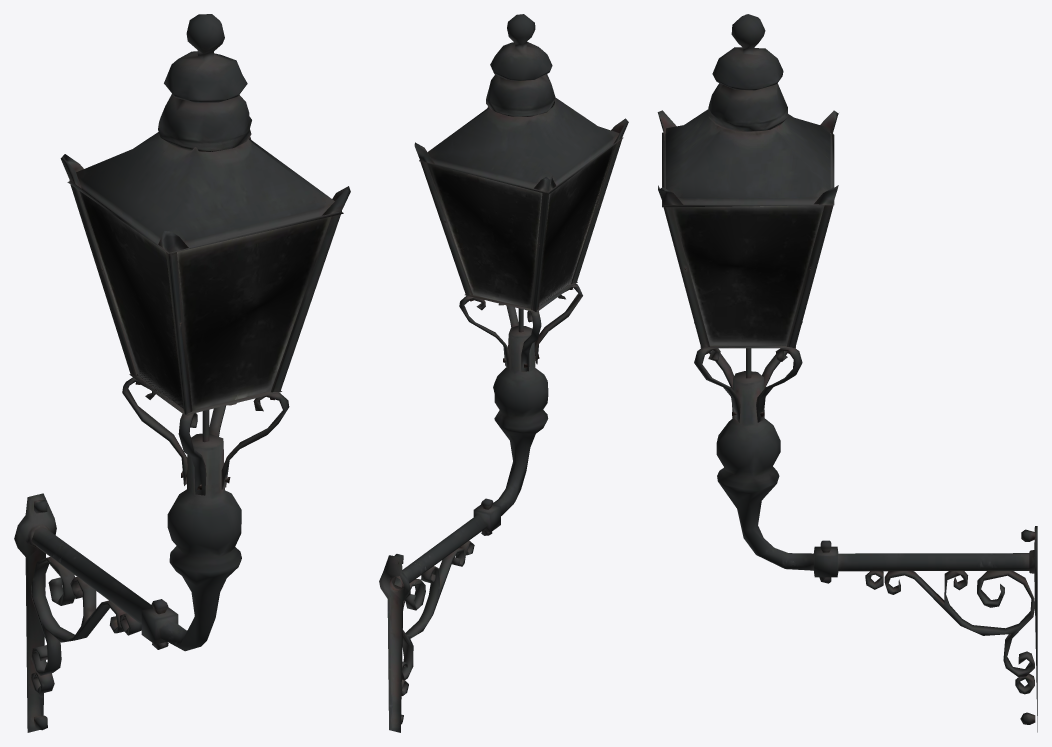
The model's file is street_lamp_02.glb.
The picture shows the model from 3 angles, left to right: view 1: azimuth 30°, elevation 25°; view 2: azimuth 150°, elevation 25°; view 3: azimuth 270°, elevation 25°; orthographic projection. The views are drawn at different scales.
Parts seen in each view (by area): view 1: street_lamp_02; view 2: street_lamp_02; view 3: street_lamp_02.
Part boxes in pixels (x1,y1,x2,y2): street_lamp_02: (14, 14, 350, 732); street_lamp_02: (379, 14, 628, 732); street_lamp_02: (657, 14, 1037, 732).
Size of the model in its own units: 0.3848 by 1.67 by 0.8061.
Materials: 2 (2 with a texture image).
